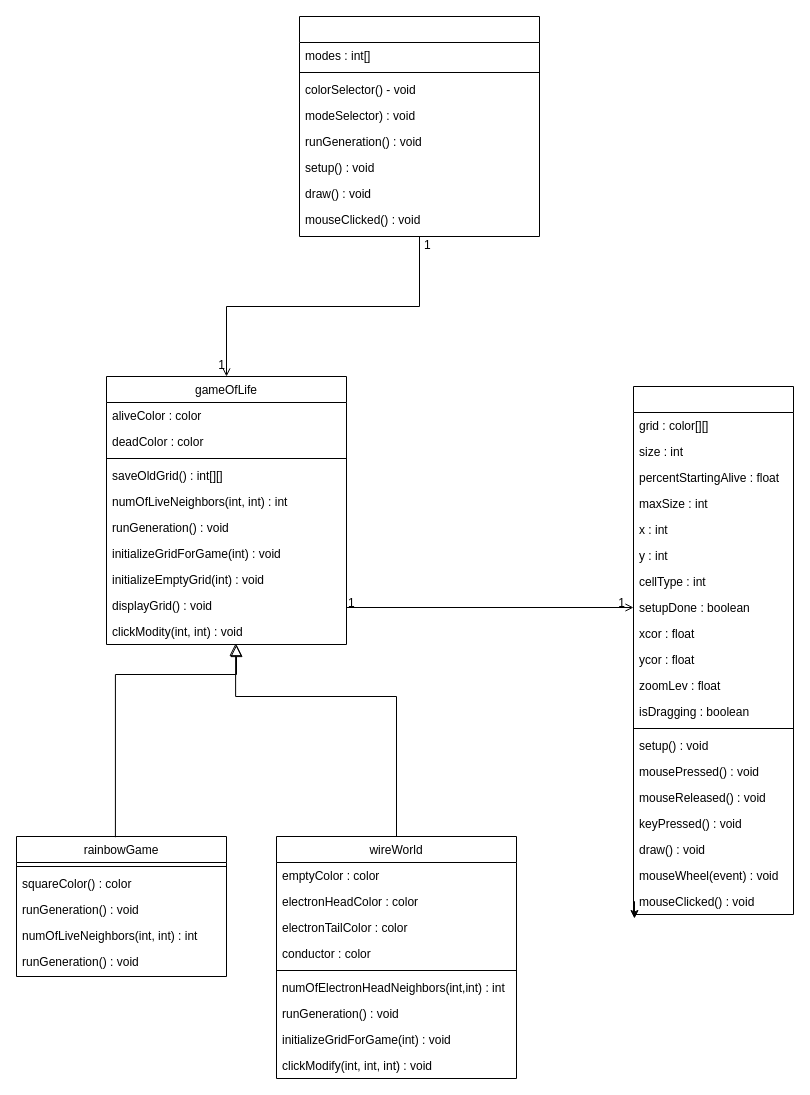
The diagram is 810 pixels wide and 1095 high, and some of its shapes have lost their labels. Each missing label, with the box of its shape:
grid_pde: (632, 386, 794, 914)
startScreen: (298, 16, 540, 236)
